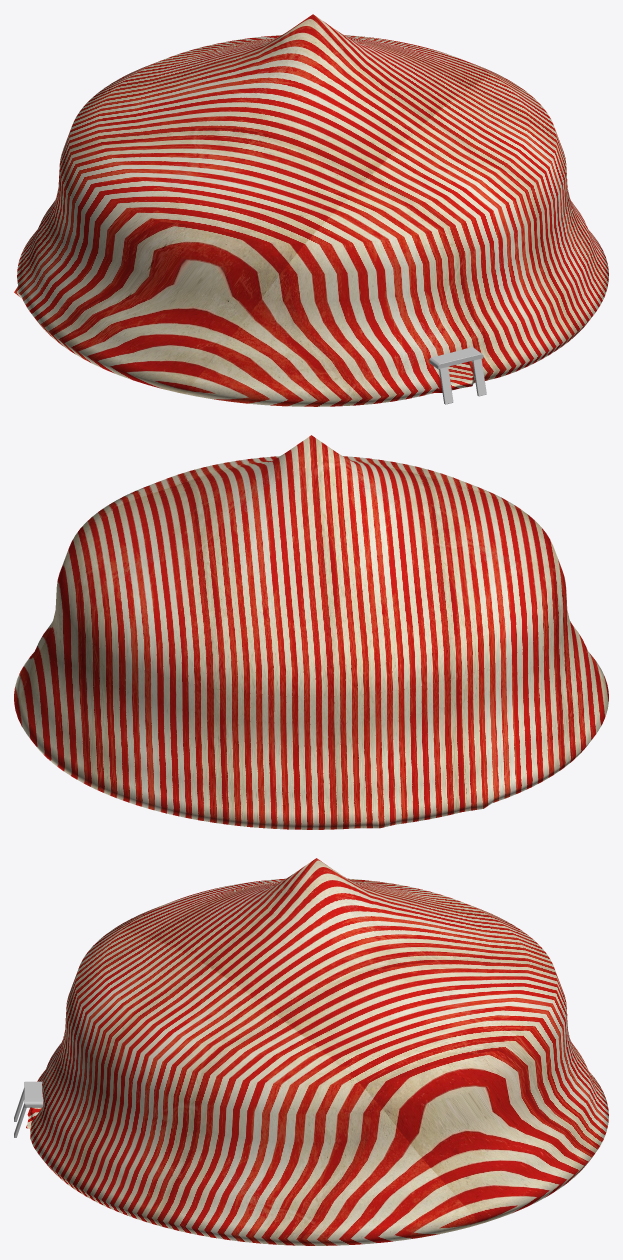
The model's file is TentLast.fbx.
The picture shows the model from 3 angles, top to bottom: view 1: azimuth 30°, elevation 25°; view 2: azimuth 150°, elevation 25°; view 3: azimuth 270°, elevation 25°; orthographic projection.
Visible parts, largest first — view 1: polySurface1, polySurface2; view 2: polySurface1; view 3: polySurface1, polySurface2.
Boxes of the visible parts, x1,y1,x2,y2 form: polySurface1: [14, 14, 608, 406]; polySurface2: [429, 347, 486, 404]; polySurface1: [14, 435, 608, 829]; polySurface1: [26, 858, 608, 1245]; polySurface2: [14, 1081, 43, 1137].
Bounding box in the file's own units: 20.21 × 10.3 × 20.57.
